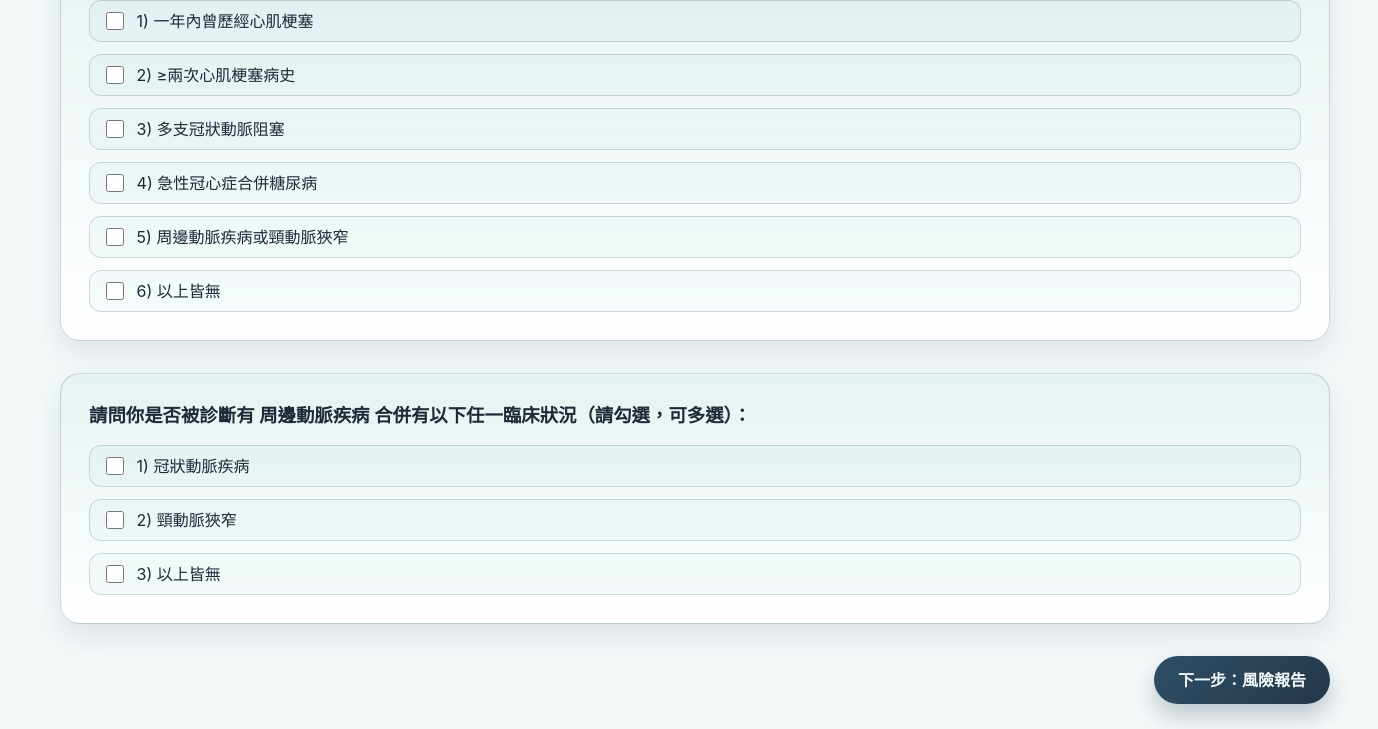
Scenario: Step5_CardiovascularHistory › 驗證必填欄位與數值格式
(page scrolled)
Click the button "下一步：風險報告" at point(1242, 680), box left=1154, top=656, right=1330, bottom=704
(page scrolled)
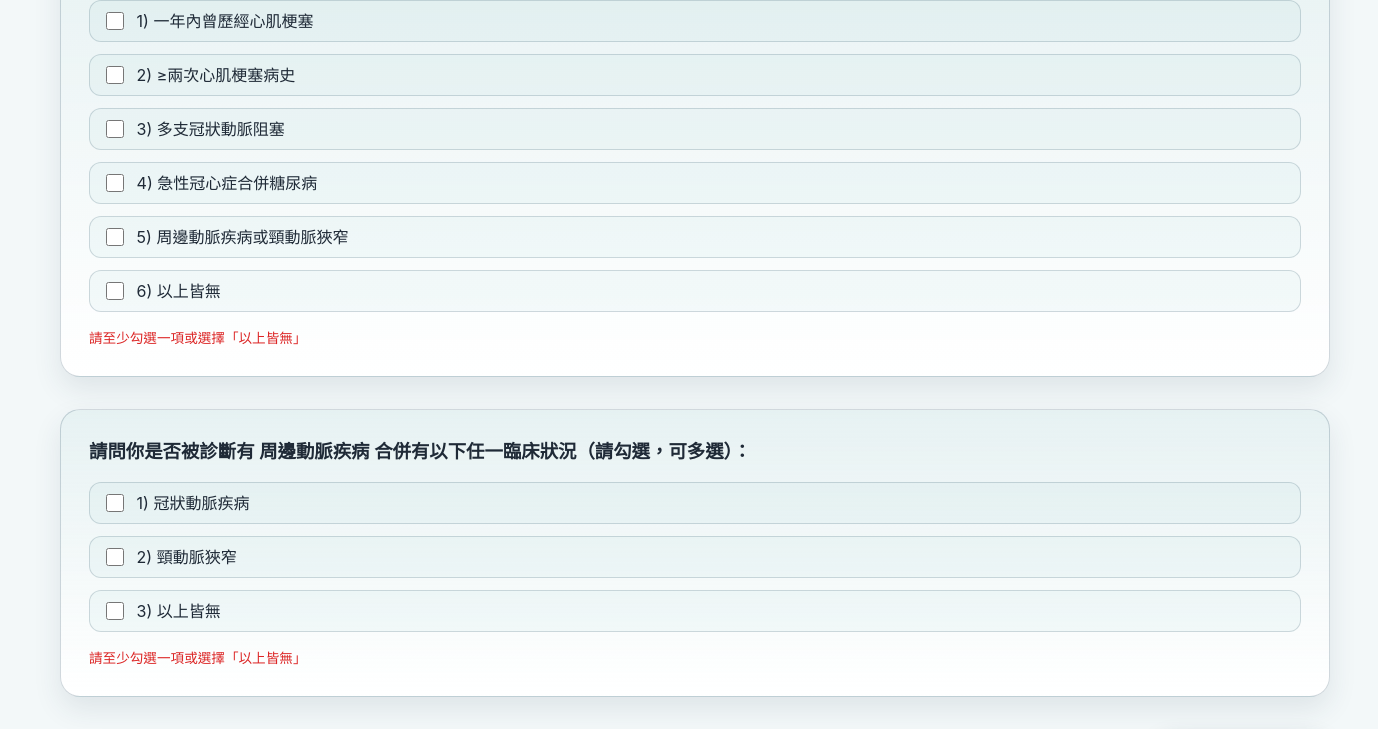
Check: the text "請至少勾選一項或選擇「以上皆無」" is shown 4 times
